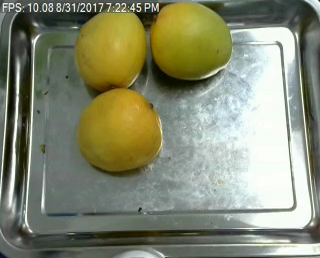Mango: (76, 85, 161, 171), (150, 1, 233, 79), (74, 9, 147, 91)
